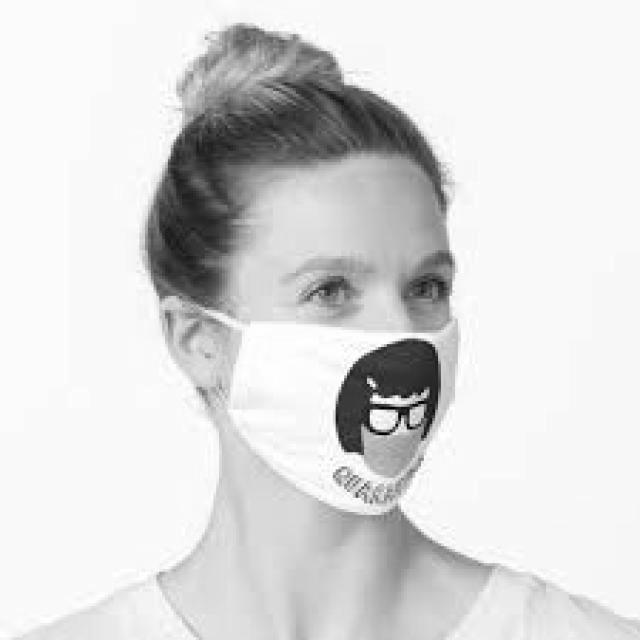fake: (225, 315, 472, 536)
real: (238, 151, 464, 526)
